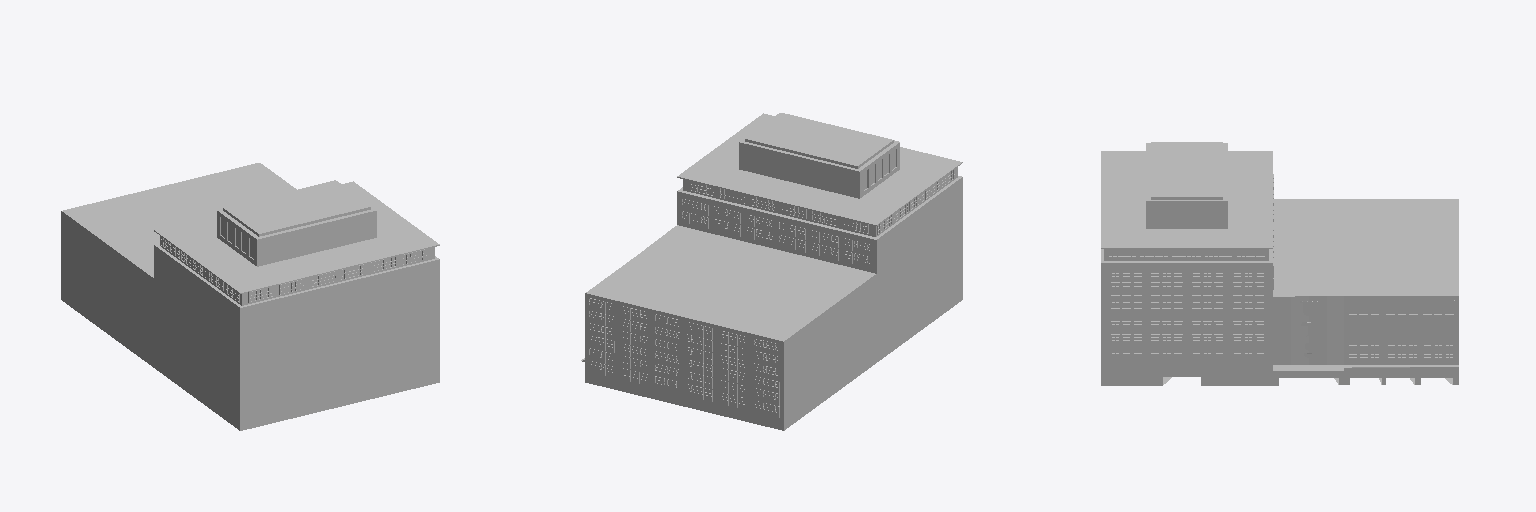
File: Building10_Compressed.obj
3 renders of one model, left to right at view 1: azimuth 30°, elevation 25°; view 2: azimuth 150°, elevation 25°; view 3: azimuth 270°, elevation 25°, orthographic.
Parts seen in each view (by area): view 1: Mesh29 Group1 Model; view 2: Mesh29 Group1 Model; view 3: Mesh29 Group1 Model.
Part boxes in pixels (x1,y1,x2,y2): Mesh29 Group1 Model: (61,163,439,430); Mesh29 Group1 Model: (581,113,962,430); Mesh29 Group1 Model: (1101,142,1458,385).
Size of the model in its own units: 404 by 308 by 596.